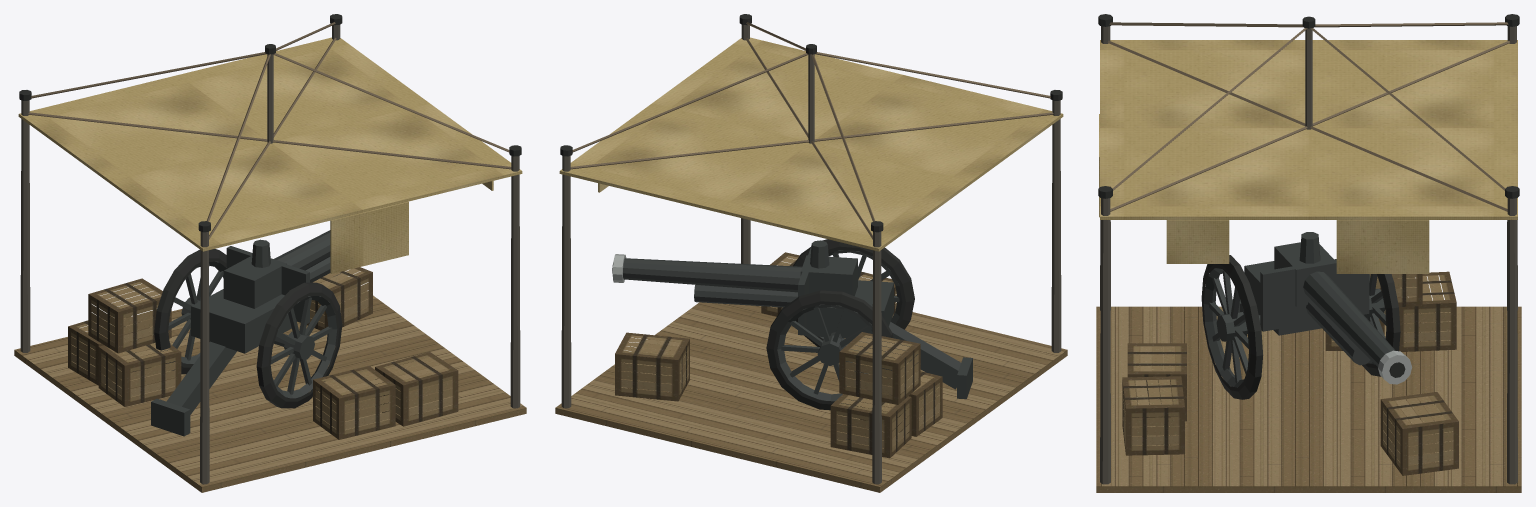
File: irregularArsenal.glb
The picture shows the model from 3 angles, left to right: view 1: azimuth 30°, elevation 25°; view 2: azimuth 150°, elevation 25°; view 3: azimuth 270°, elevation 25°; orthographic projection. The views are drawn at different scales.
Visible parts, largest first — view 1: bache, plancher, caisse_munitions (×6), mat (×3), bandage (×2), pan_tombant, affut, culasse, corde_croix (×2), hauban (×3), fleche, bouclier (+4 smaller); view 2: bache, plancher, caisse_munitions (×4), mat (×4), bandage (×2), tube, corde_croix (×2), hauban (×3), affut, frein, culasse, fleche (+3 smaller); view 3: bache, plancher, caisse_munitions (×5), pan_tombant (×2), mat (×2), bandage (×2), bouclier, tube, hauban (×4), corde_croix (×2), culasse, roue_jante (+6 smaller).
Part boxes in pixels (x1,y1,x2,y2): bache: (18,37,522,251); plancher: (14,273,526,492); caisse_munitions (×6): (68,267,458,439); mat (×3): (20,100,520,484); bandage (×2): (154,249,342,408); pan_tombant: (330,201,408,273); affut: (191,289,291,353); culasse: (223,255,286,308); corde_croix (×2): (28,38,511,239); hauban (×3): (31,52,509,221); fleche: (166,341,236,414); bouclier: (226,246,309,323); bache: (559,37,1063,251); plancher: (555,302,1067,492); caisse_munitions (×4): (615,332,942,458); mat (×4): (561,25,1061,484); bandage (×2): (766,239,914,410); tube: (623,258,802,292); corde_croix (×2): (570,38,1053,239); hauban (×3): (572,52,1050,221); affut: (804,280,893,339); frein: (694,284,797,307); culasse: (800,255,857,296); fleche: (889,322,960,389); bache: (1100,40,1517,219); plancher: (1096,306,1521,492); caisse_munitions (×5): (1122,271,1458,475); pan_tombant (×2): (1166,220,1429,273); mat (×2): (1100,198,1517,484); bandage (×2): (1201,255,1400,399); bouclier: (1260,259,1369,331); tube: (1303,271,1395,366); hauban (×4): (1109,22,1508,190); corde_croix (×2): (1107,40,1510,211); culasse: (1274,242,1337,306); roue_jante: (1203,268,1247,387).
Bounding box in the file's own units: 2.3 × 2.29 × 2.3.
8 materials, 3 textured.
